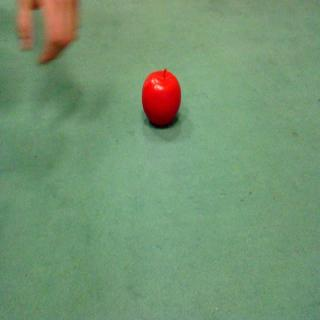apple: (136, 58, 195, 137)
